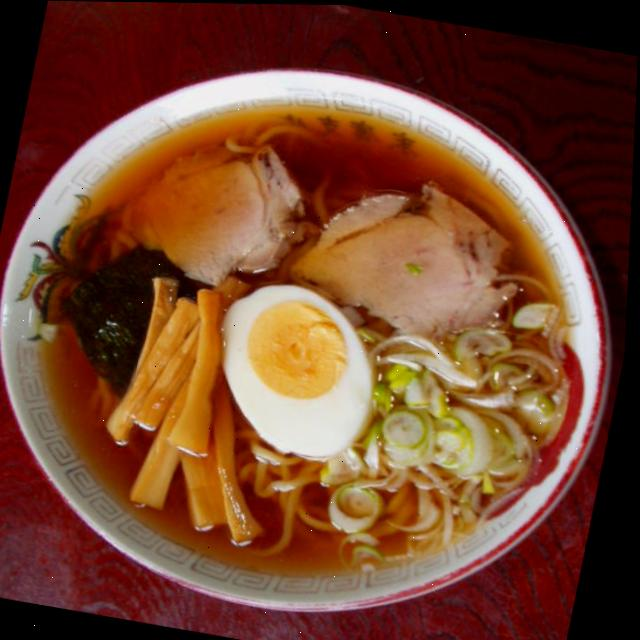面条主食: (0, 6, 640, 640)
